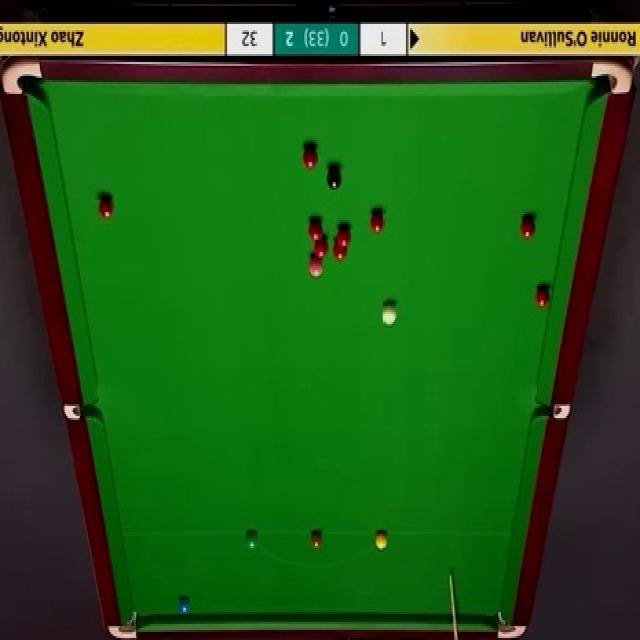black-ball: (325, 167, 342, 190)
blue-ball: (179, 596, 191, 616)
brown-ball: (309, 530, 322, 550)
green-ball: (245, 529, 259, 550)
pink-ball: (307, 255, 323, 280)
red-ball: (98, 195, 116, 221), (334, 225, 352, 248), (521, 215, 536, 242), (308, 218, 324, 243), (312, 235, 328, 259), (332, 240, 348, 262), (534, 285, 550, 307), (371, 212, 386, 235), (303, 148, 317, 170)
white-ball: (381, 298, 398, 328)
yellow-ball: (374, 530, 389, 551)
